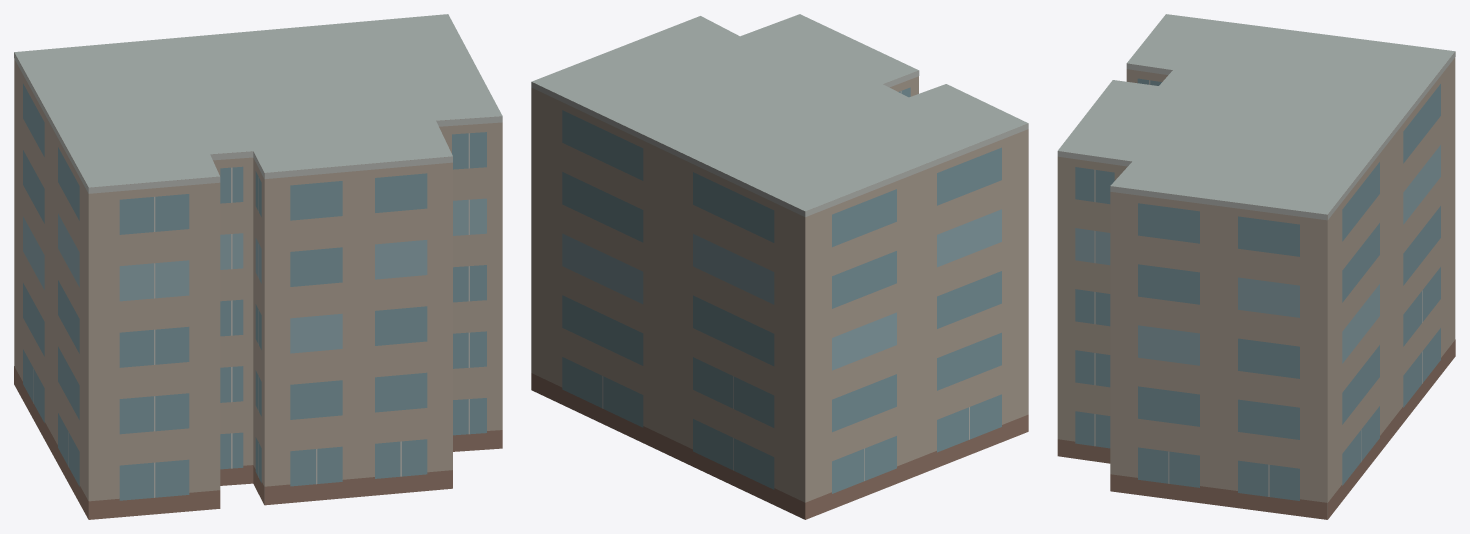
Rendered from survey-upis-33019184.glb.
The picture shows the model from 3 angles, left to right: view 1: azimuth 30°, elevation 25°; view 2: azimuth 150°, elevation 25°; view 3: azimuth 270°, elevation 25°; orthographic projection. The views are drawn at different scales.
Parts seen in each view (by area): view 1: survey-upis-33019184.tmp; view 2: survey-upis-33019184.tmp; view 3: survey-upis-33019184.tmp.
Boxes of the visible parts, <box> form: survey-upis-33019184.tmp: <box>14,14,502,519</box>; survey-upis-33019184.tmp: <box>531,14,1028,519</box>; survey-upis-33019184.tmp: <box>1057,14,1455,519</box>.
Bounding box in the file's own units: 18.33 × 13 × 15.37.
